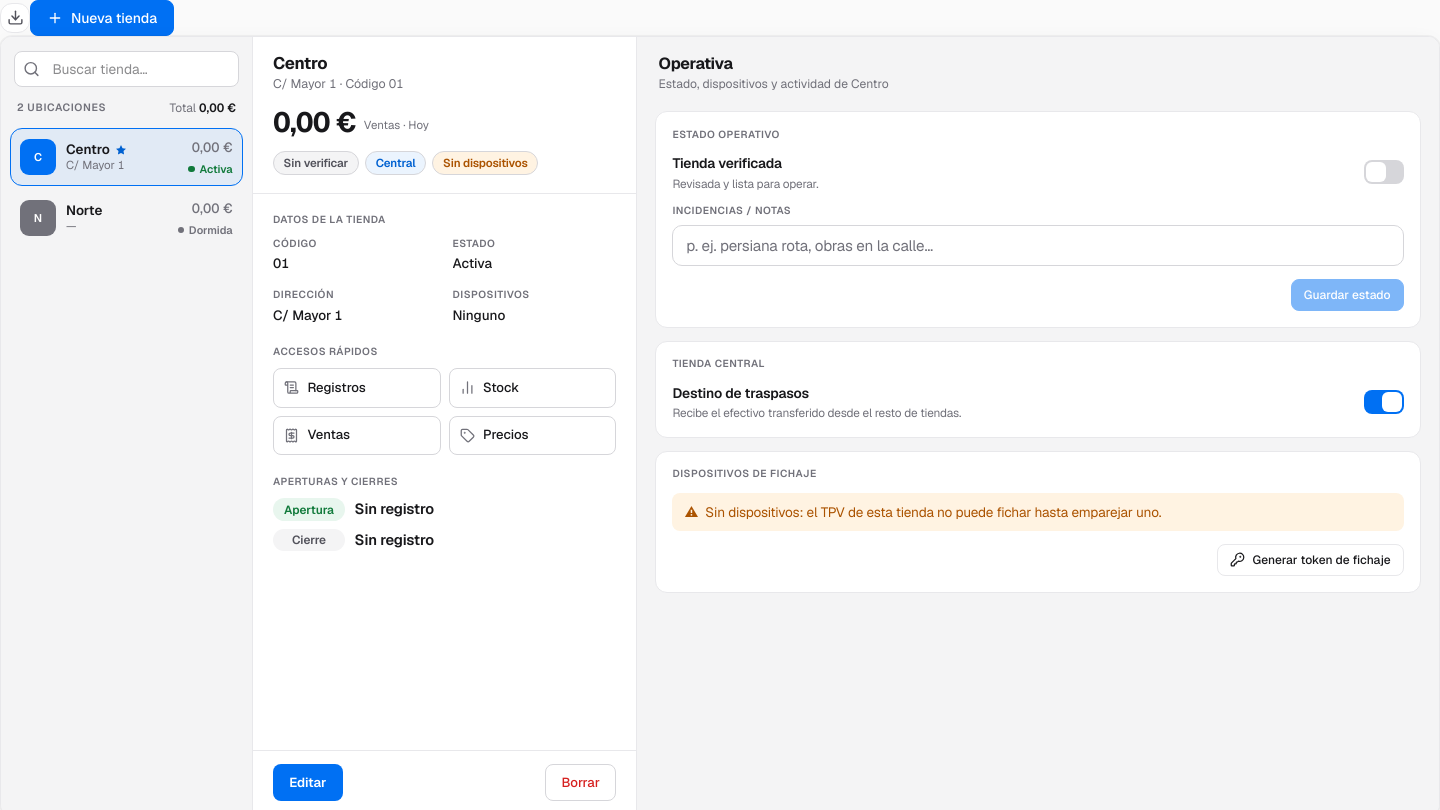
it: StoresPage › abre el modal de precios por tienda al pulsar "Precios" sin ocultar los paneles (#127 A)
Expected: the button with test id "store-lrow" that starts with "Centro" is shown, [10,128,243,186]
Click the button with test id "store-open-prices" at (532, 435), box [448,416,616,455]
(page scrolled)
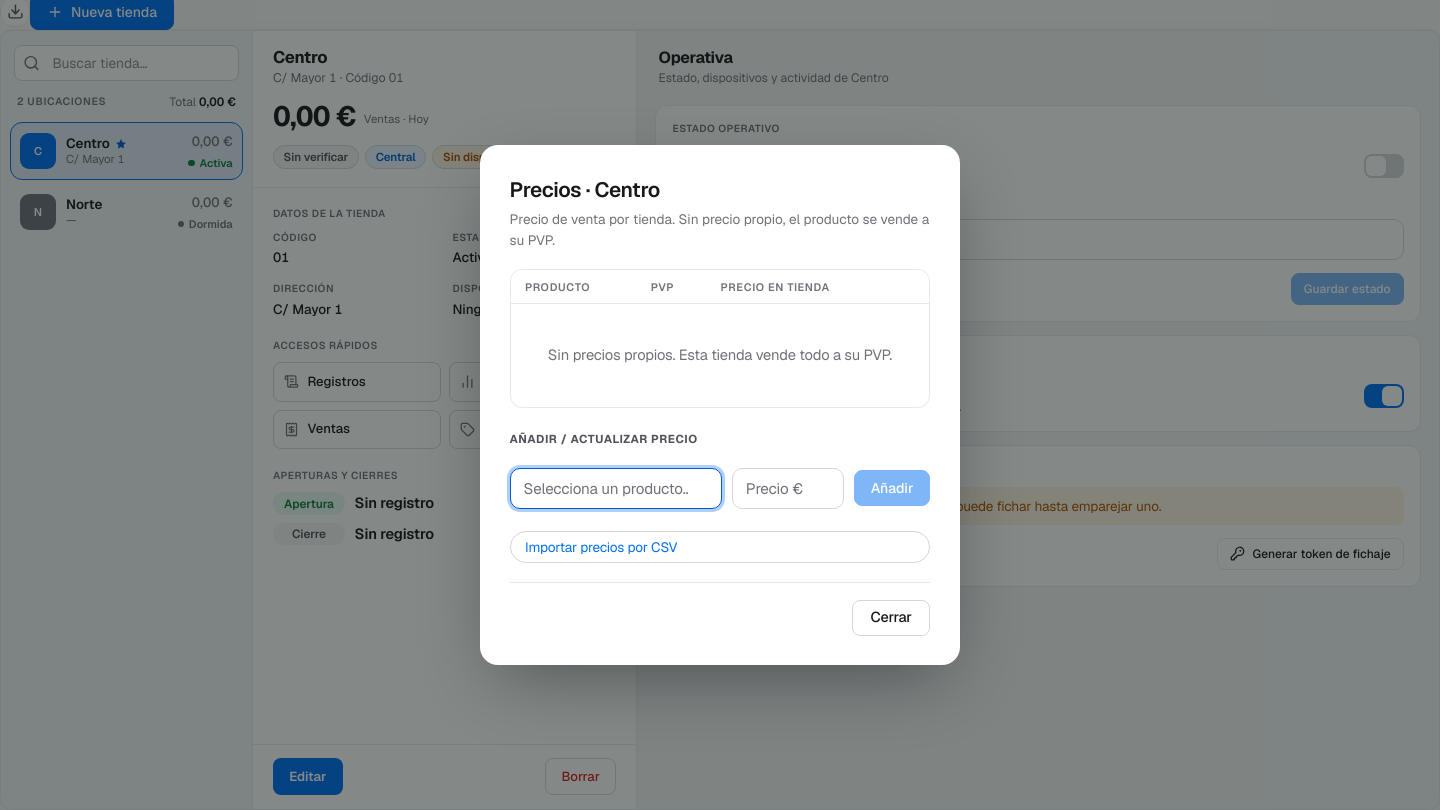
Expected: the element with test id "store-detail-panel" is shown, [253,31,637,809]
Now the dialog with test id "store-prices-detail" is shown, box [480,145,960,666]
